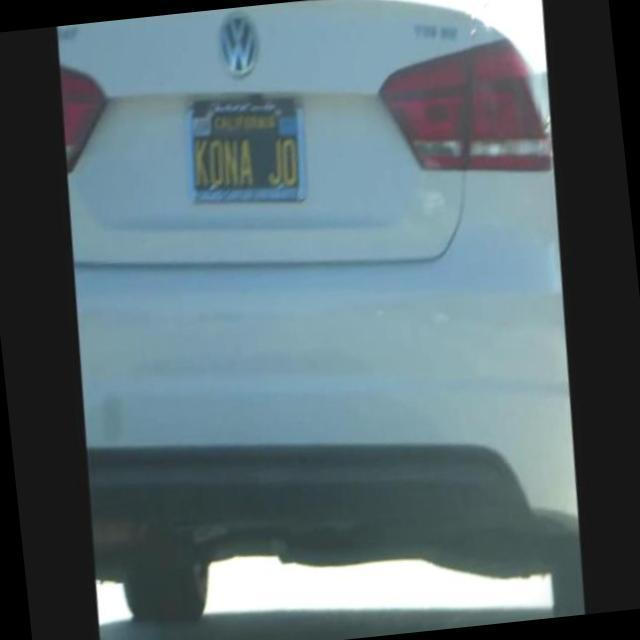License Plate: (174, 74, 320, 226)
